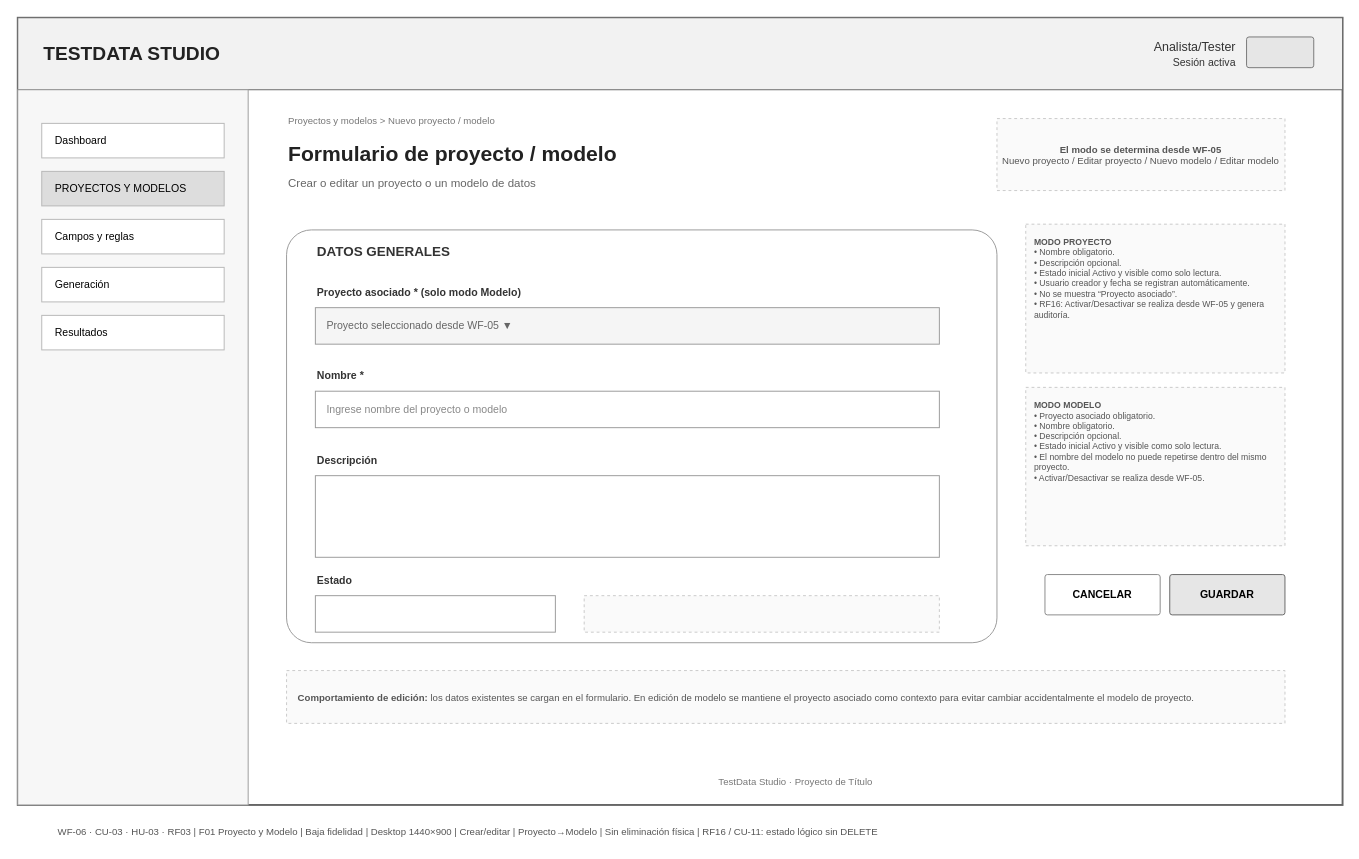
Some shapes in this 1359 by 859 pixel diagram are drawn without their labels. Here are the shapes that lost their labels. From the top down, the box of each, then its label:
(1246, 36, 1314, 68): SALIR
(314, 475, 939, 557): Ingrese una descripción breve
(314, 595, 555, 632): Activo · solo lectura
(583, 595, 939, 632): Área de mensajes y validaciones
